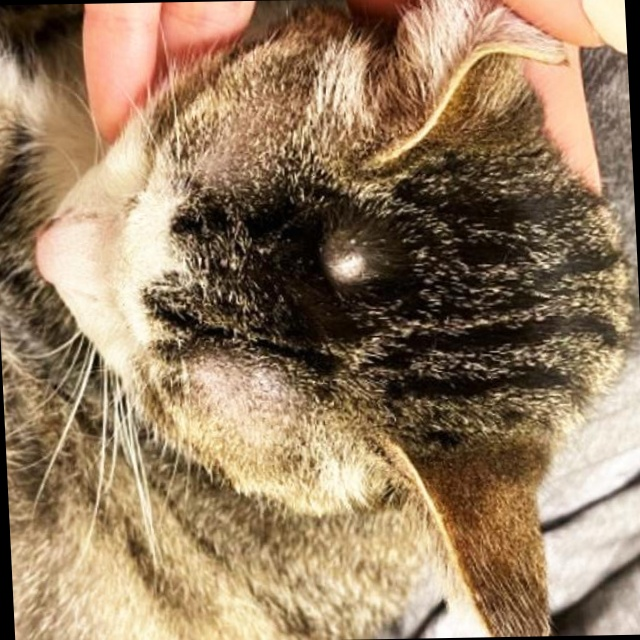lump_and_bump: (319, 241, 370, 293)
